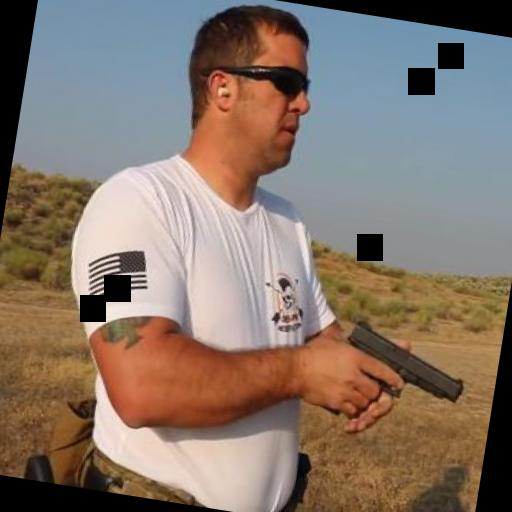Handgun: (324, 314, 474, 446)
